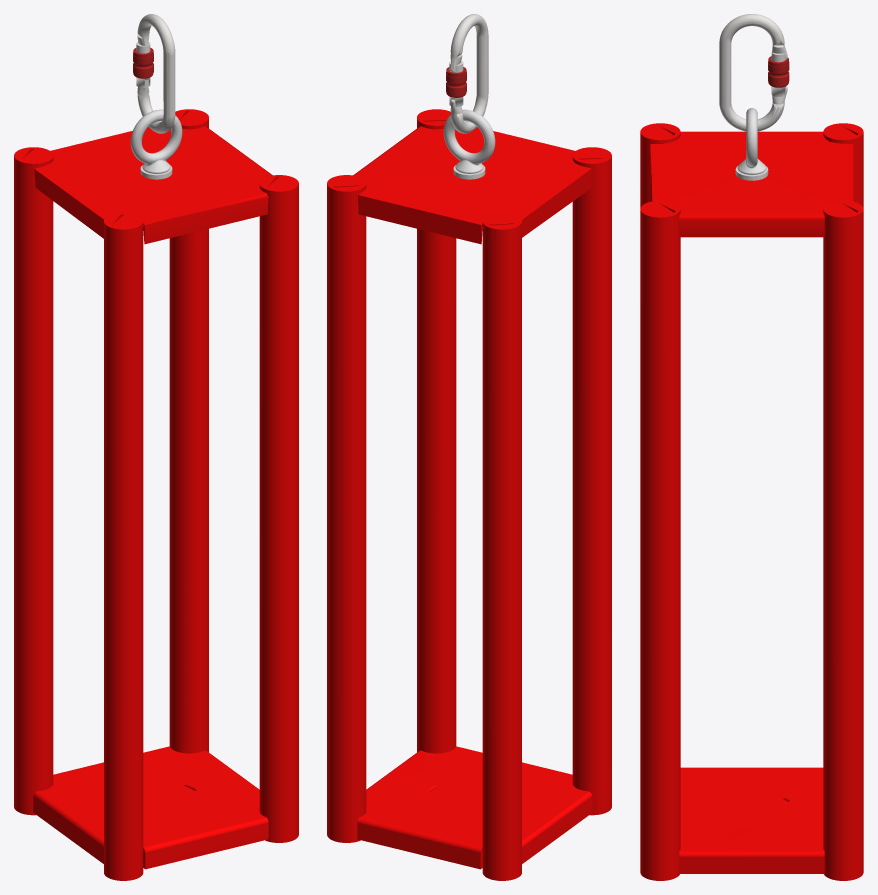
File: Cage.fbx
3 views of the same model, side by side, from view 1: azimuth 30°, elevation 25°; view 2: azimuth 150°, elevation 25°; view 3: azimuth 270°, elevation 25° (orthographic).
Visible parts, largest first — view 1: GE-25201-03, GE-25201-03.001, GE-25201-03.002, GE-25201-03.003, GE-25201-02, GE-25201-01, 3216T41_Carabiner, eyebolt_shoulder_.5_13_1.5; view 2: GE-25201-03.002, GE-25201-03.003, GE-25201-03, GE-25201-03.001, GE-25201-02, GE-25201-01, 3216T41_Carabiner, eyebolt_shoulder_.5_13_1.5; view 3: GE-25201-03.001, GE-25201-03.003, GE-25201-02, GE-25201-01, 3216T41_Carabiner, GE-25201-03.002, GE-25201-03, eyebolt_shoulder_.5_13_1.5.
Boxes of the visible parts, bbox=[...] form: GE-25201-03: bbox=[104, 213, 143, 880]; GE-25201-03.001: bbox=[259, 175, 298, 842]; GE-25201-03.002: bbox=[14, 147, 53, 815]; GE-25201-03.003: bbox=[169, 109, 208, 753]; GE-25201-02: bbox=[34, 126, 272, 244]; GE-25201-01: bbox=[33, 746, 268, 869]; 3216T41_Carabiner: bbox=[133, 14, 175, 133]; eyebolt_shoulder_.5_13_1.5: bbox=[130, 109, 182, 173]; GE-25201-03.002: bbox=[482, 213, 521, 880]; GE-25201-03.003: bbox=[327, 175, 366, 842]; GE-25201-03: bbox=[572, 147, 611, 815]; GE-25201-03.001: bbox=[417, 109, 456, 753]; GE-25201-02: bbox=[353, 126, 591, 244]; GE-25201-01: bbox=[357, 746, 592, 869]; 3216T41_Carabiner: bbox=[446, 14, 488, 133]; eyebolt_shoulder_.5_13_1.5: bbox=[443, 109, 495, 173]; GE-25201-03.001: bbox=[640, 200, 680, 880]; GE-25201-03.003: bbox=[823, 200, 863, 880]; GE-25201-02: bbox=[649, 131, 853, 237]; GE-25201-01: bbox=[679, 767, 824, 873]; 3216T41_Carabiner: bbox=[719, 14, 789, 131]; GE-25201-03.002: bbox=[823, 123, 863, 208]; GE-25201-03: bbox=[640, 123, 680, 207]; eyebolt_shoulder_.5_13_1.5: bbox=[737, 108, 766, 174].
Bounding box in the file's own units: 18.58 × 75.28 × 18.58.
